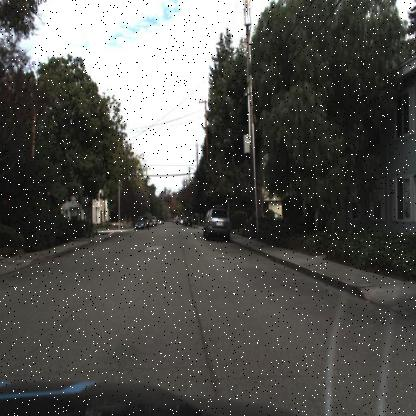car: (203, 202, 232, 245), (132, 216, 145, 232)
